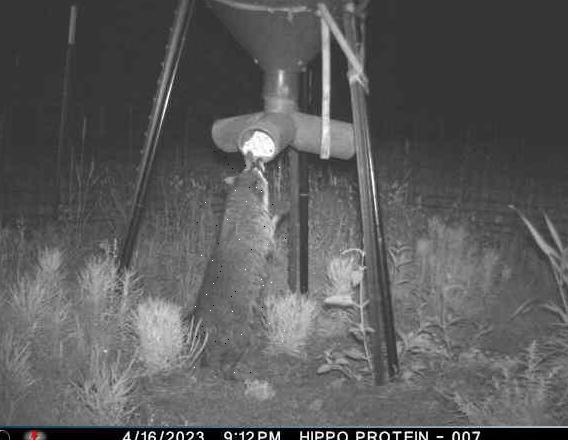Raccoon: (193, 150, 289, 378)
